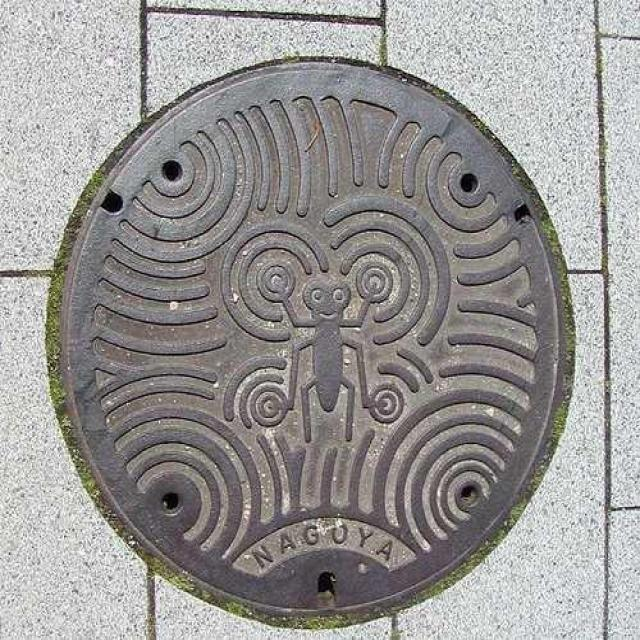manhole: (49, 59, 573, 623)
